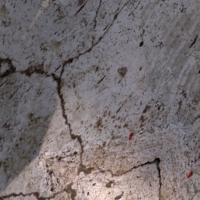crack: (4, 0, 165, 199)
